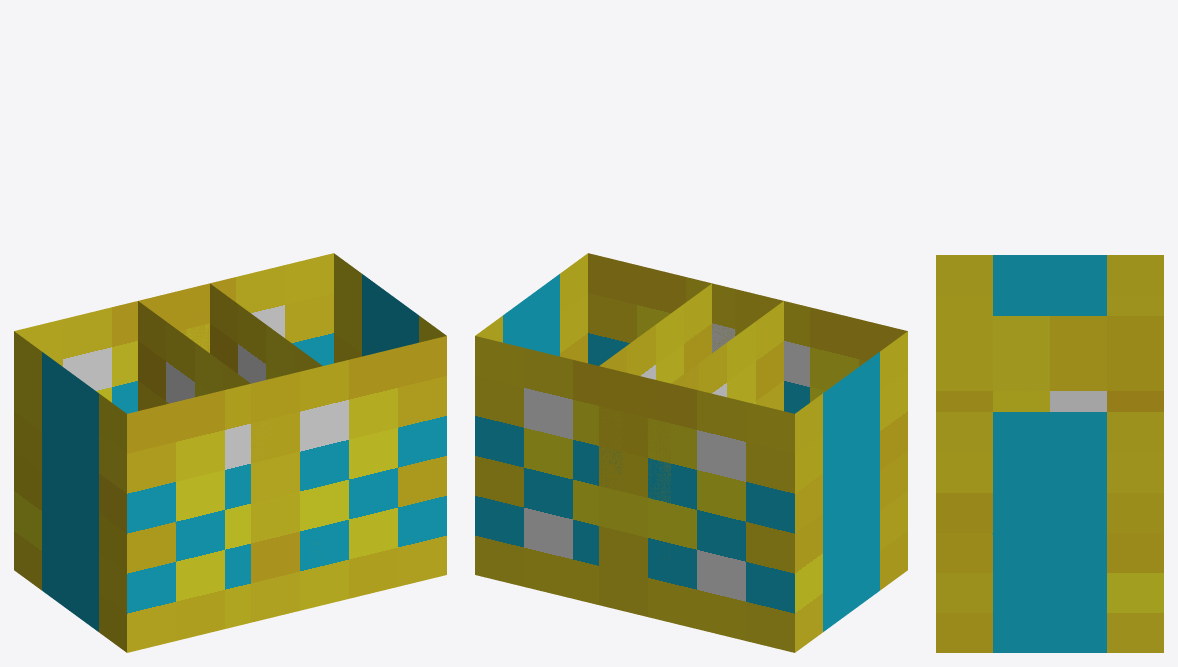
File: gold_boots_customl.glb
3 renders of one model, left to right at view 1: azimuth 30°, elevation 25°; view 2: azimuth 150°, elevation 25°; view 3: azimuth 270°, elevation 25°, orthographic.
Parts seen in each view (by area): view 1: Left Boot, Right Boot; view 2: Left Boot, Right Boot; view 3: Right Boot, Left Boot.
Part boxes in pixels (left/top/right/bottom): Left Boot: left=14, top=283, right=322, bottom=652; Right Boot: left=138, top=253, right=446, bottom=622; Left Boot: left=599, top=283, right=907, bottom=652; Right Boot: left=475, top=253, right=783, bottom=604; Right Boot: left=936, top=316, right=1163, bottom=652; Left Boot: left=936, top=255, right=1163, bottom=411.
Bounding box in the file's own units: 0.6125 × 0.875 × 0.375.
Materials: 1 (1 with a texture image).
